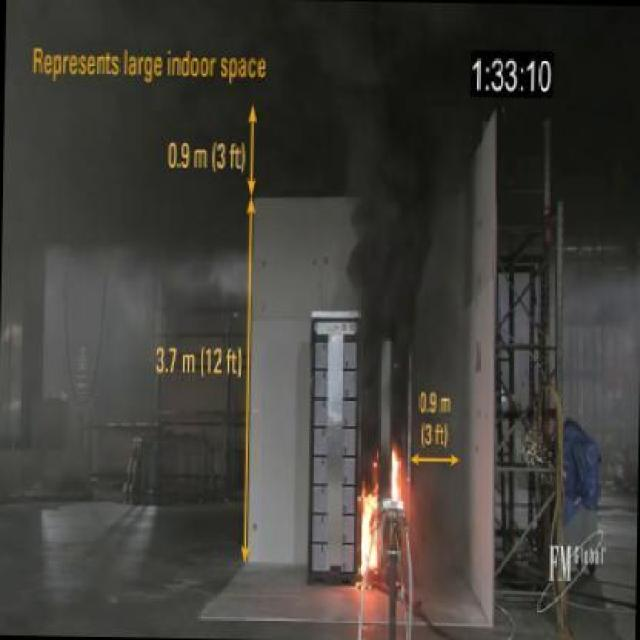fire: (338, 102, 446, 298)
smoke: (354, 446, 384, 585), (388, 441, 412, 517)
